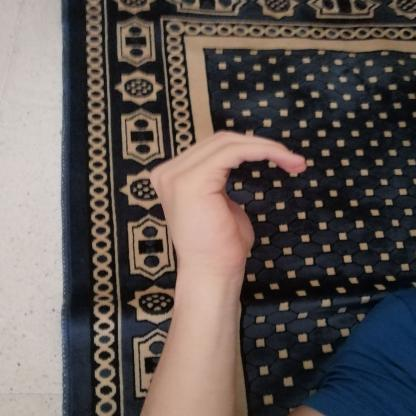HAA: (135, 119, 326, 272)
